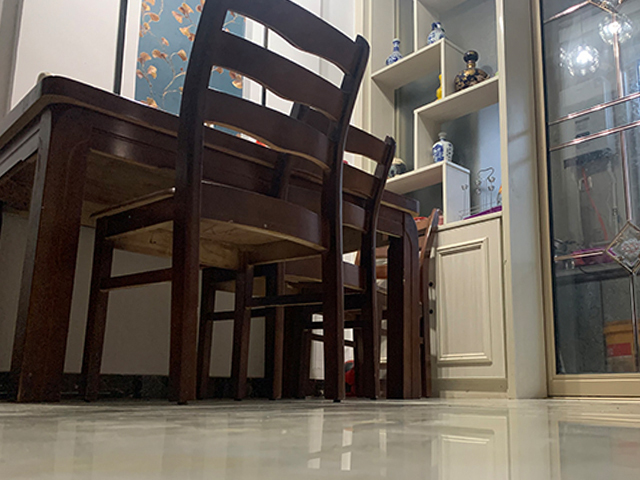cabinet: (366, 213, 535, 399)
stool: (80, 1, 371, 403), (195, 102, 397, 401)
table: (1, 72, 424, 400)
